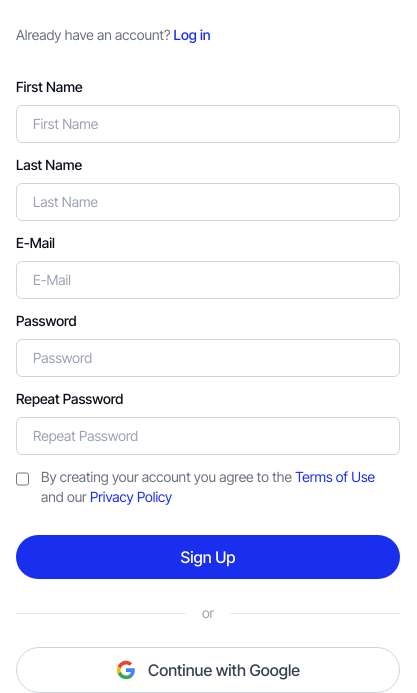
Test case: SignupForm › Google OAuth sign-in › should display error when Google sign-in fails
The image size is (417, 693).
Step 1. Click the button "Continue with Google" → point(208, 670), box x1=16 y1=647 x2=400 y2=692
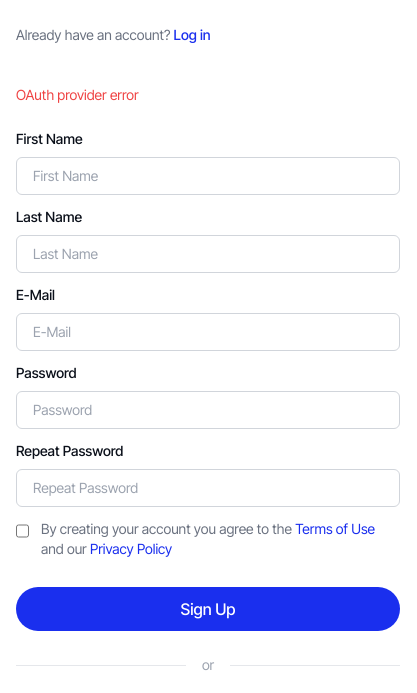
Expected: the text "OAuth provider error" is shown, x1=16 y1=86 x2=138 y2=103
